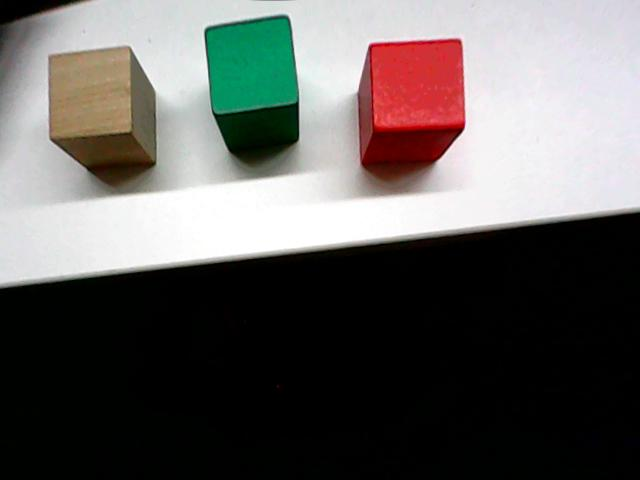green_box: (200, 12, 303, 158)
raw_box: (42, 40, 165, 176)
red_box: (353, 33, 469, 170)
